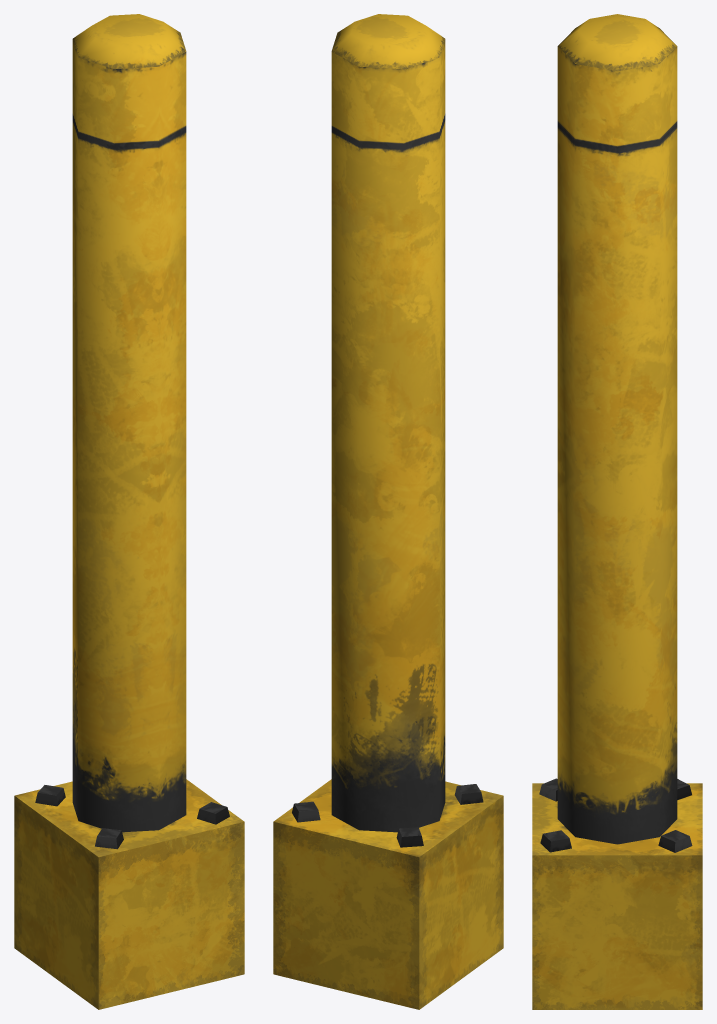
File: pole.glb
3 renders of one model, left to right at view 1: azimuth 30°, elevation 25°; view 2: azimuth 150°, elevation 25°; view 3: azimuth 270°, elevation 25°, orthographic.
Visible parts, largest first — view 1: Pole; view 2: Pole; view 3: Pole.
Boxes of the visible parts, x1,y1,x2,y2 form: Pole: (14,14,244,1009); Pole: (273,14,503,1009); Pole: (532,14,702,1009).
Size of the model in its own units: 0.1806 by 1.1 by 0.1806.
Materials: 1 (1 with a texture image).
